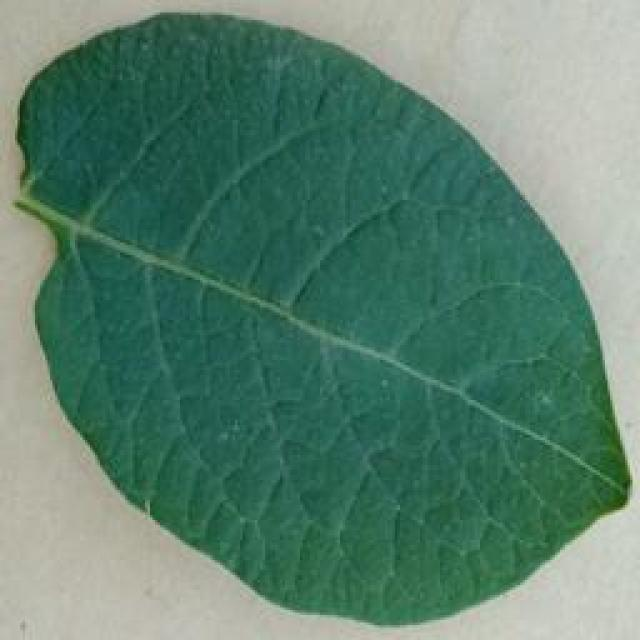Potato_Healthy: (13, 12, 619, 624)
